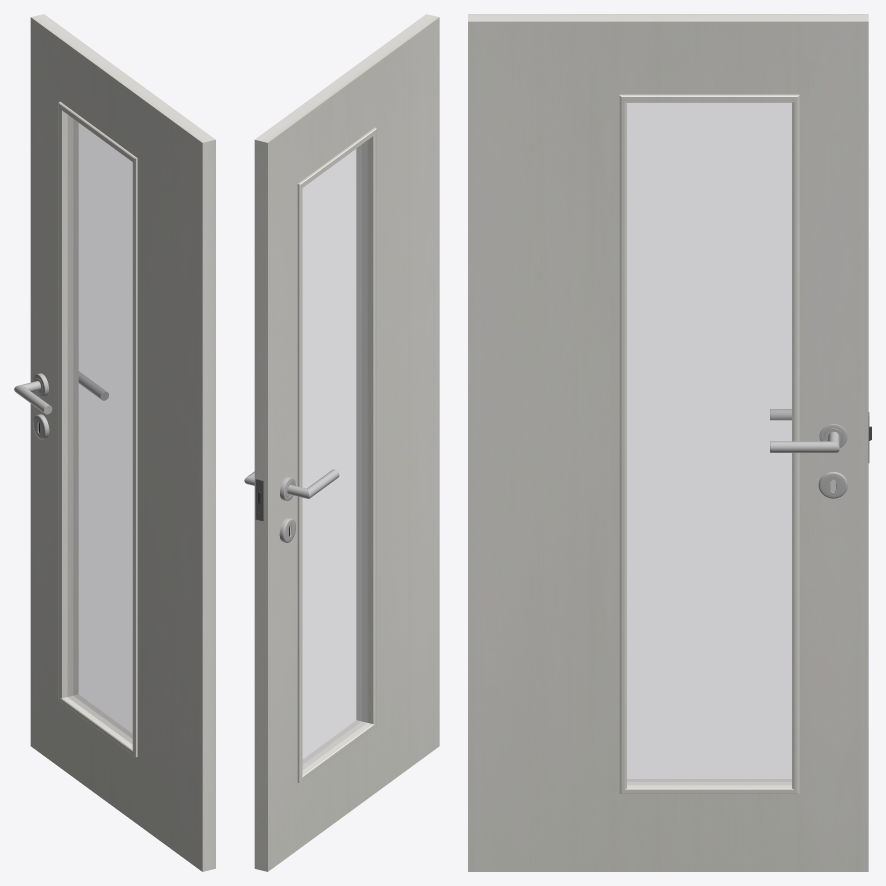
Rendered from door27.glb.
The picture shows the model from 3 angles, left to right: view 1: azimuth 30°, elevation 25°; view 2: azimuth 150°, elevation 25°; view 3: azimuth 270°, elevation 25°; orthographic projection. The views are drawn at different scales.
Parts seen in each view (by area): view 1: TB-LA3S, Door_Handle_01; view 2: TB-LA3S, Door_Handle_01; view 3: TB-LA3S, Door_Handle_01.
Boxes of the visible parts, x1,y1,x2,y2 form: TB-LA3S: [30, 14, 215, 871]; Door_Handle_01: [14, 371, 108, 439]; TB-LA3S: [254, 14, 439, 871]; Door_Handle_01: [244, 469, 339, 542]; TB-LA3S: [468, 14, 871, 871]; Door_Handle_01: [770, 409, 847, 498].
Size of the model in its own units: 0.1566 by 1.67 by 0.7187.
6 materials, 1 textured.
